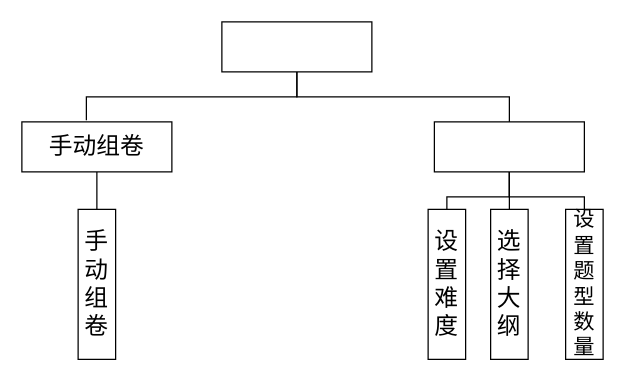
Image size: 625x383. Some labels were removed from this diagram. The centre of each missing label's shape, as x and y in pixels:
组卷功能: (296,46)
自动组卷: (508,146)
